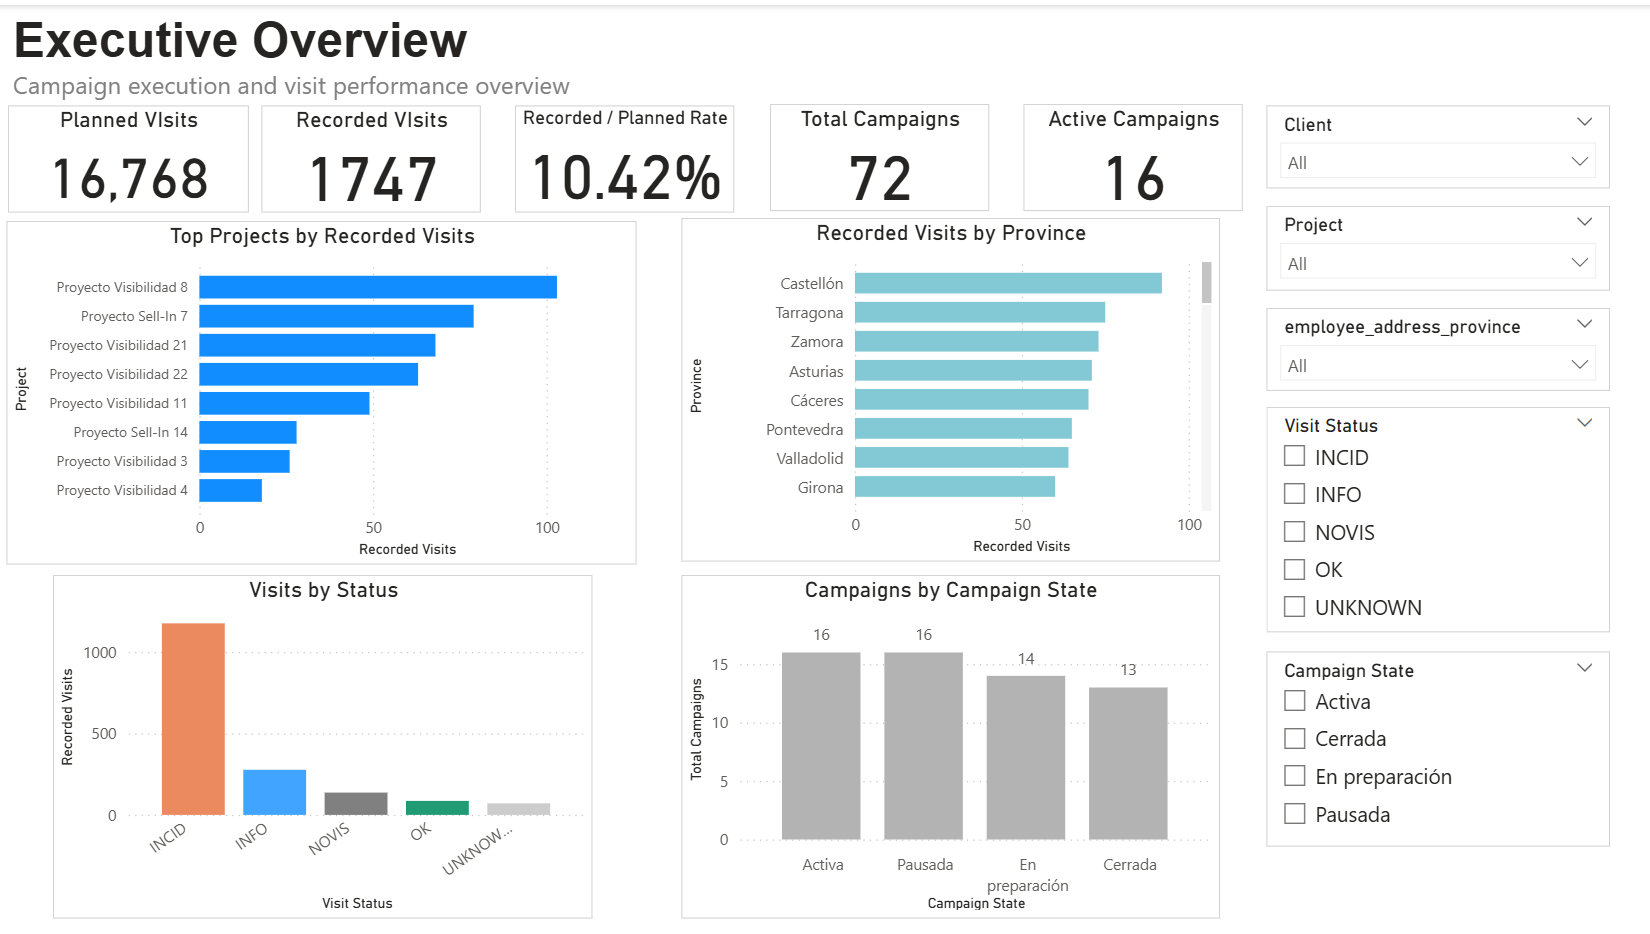

The page's visual inventory and layout, read from the dashboard file:
{"tool":"powerbi","page":{"name":"Executive Overview","canvas":[1280,720],"ordinal":0},"visuals":[{"type":"textbox","box":[10.4,0,563.1,83.4],"z":0},{"type":"slicer","fields":{"Values":["dim_clients.client_name"]},"box":[984.3,77.2,265.3,64],"z":1000},{"type":"slicer","fields":{"Values":["dim_projects.project_name"]},"box":[984.3,154.8,265.3,65.1],"z":2000},{"type":"slicer","fields":{"Values":["dim_campaigns.campaign_state"]},"box":[984.3,498.8,265.3,150.4],"z":3000},{"type":"slicer","fields":{"Values":["fct_visits.visit_status"]},"box":[984.3,311.1,265.3,174.1],"z":4000},{"type":"slicer","fields":{"Values":["dim_workers.employee_address_province"]},"box":[984.3,233.5,265.3,64],"z":5000},{"type":"card","title":"Planned VIsits","fields":{"Values":["_Measures.Planned Visits"]},"box":[11.8,78.2,186,82.9],"z":6000},{"type":"card","title":"Recorded VIsits","fields":{"Values":["_Measures.Recorded Visits"]},"box":[207.6,77.8,169.4,82.9],"z":7000},{"type":"card","title":"Recorded / Planned Rate","fields":{"Values":["_Measures.Completion Rate"]},"box":[403.7,77.8,169.4,82.9],"z":8000},{"type":"card","title":"Total Campaigns","fields":{"Values":["_Measures.Total Campaigns"]},"box":[599.8,77,169.4,82.9],"z":9000},{"type":"card","title":"Active Campaigns","fields":{"Values":["_Measures.Active Campaigns"]},"box":[796,77,169.4,82.9],"z":10000},{"type":"barChart","title":"Top Projects by Recorded Visits","fields":{"Category":["dim_projects.project_name"],"Y":["_Measures.Recorded Visits"]},"box":[10.7,167,486.8,265.3],"z":11000},{"type":"clusteredColumnChart","title":"Visits by Status","fields":{"Category":["fct_visits.visit_status"],"Y":["_Measures.Recorded Visits"]},"box":[46.2,440.6,416.9,265.3],"z":12000},{"type":"barChart","title":"Recorded Visits by Province","fields":{"Category":["dim_pos.intervention_point_province"],"Y":["_Measures.Recorded Visits"]},"box":[531.8,164.6,415.7,265.3],"z":13000},{"type":"columnChart","title":"Campaigns by Campaign State","fields":{"Category":["dim_campaigns.campaign_state"],"Y":["_Measures.Total Campaigns"]},"box":[531.8,440.6,415.7,265.3],"z":14000}]}

Visuals, with their boxes in screenshot pixels (x1, y1, x2, y2), scaled from the page's 1280x720 canvas onto the 1650x934 screenshot:
textbox: (13, 0, 739, 108)
slicer - dim_clients.client_name: (1269, 100, 1611, 183)
slicer - dim_projects.project_name: (1269, 201, 1611, 285)
slicer - dim_campaigns.campaign_state: (1269, 647, 1611, 842)
slicer - fct_visits.visit_status: (1269, 404, 1611, 629)
slicer - dim_workers.employee_address_province: (1269, 303, 1611, 386)
"Planned VIsits" card: (15, 101, 255, 209)
"Recorded VIsits" card: (268, 101, 486, 208)
"Recorded / Planned Rate" card: (520, 101, 739, 208)
"Total Campaigns" card: (773, 100, 992, 207)
"Active Campaigns" card: (1026, 100, 1244, 207)
"Top Projects by Recorded Visits" barChart: (14, 217, 641, 561)
"Visits by Status" clusteredColumnChart: (60, 572, 597, 916)
"Recorded Visits by Province" barChart: (686, 214, 1221, 558)
"Campaigns by Campaign State" columnChart: (686, 572, 1221, 916)
